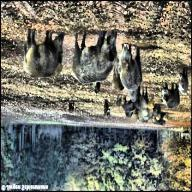boar: (16, 25, 67, 81), (69, 30, 118, 88), (119, 41, 145, 93), (156, 86, 179, 114), (175, 64, 191, 96)
